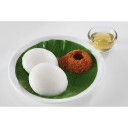idly: (29, 64, 68, 95), (23, 48, 58, 70)
